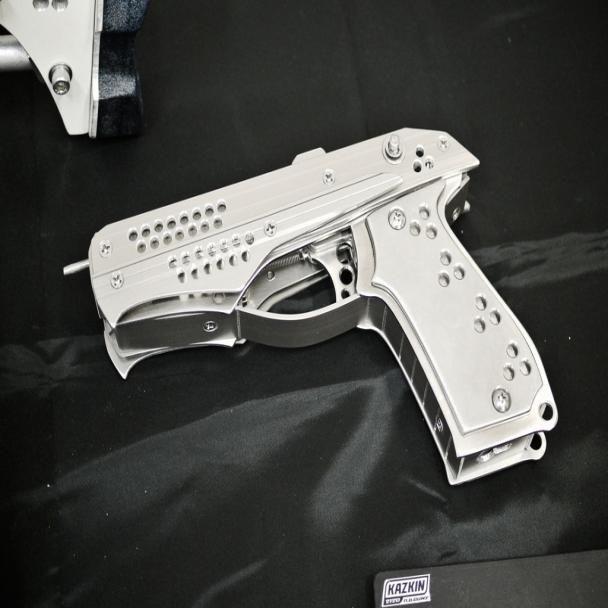Gun: (29, 110, 560, 494)
